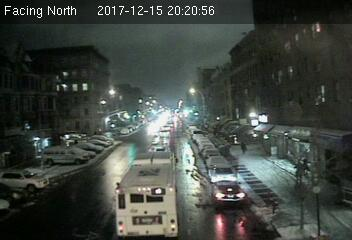bus: (115, 151, 180, 234)
car: (208, 180, 245, 207), (210, 163, 235, 180)
